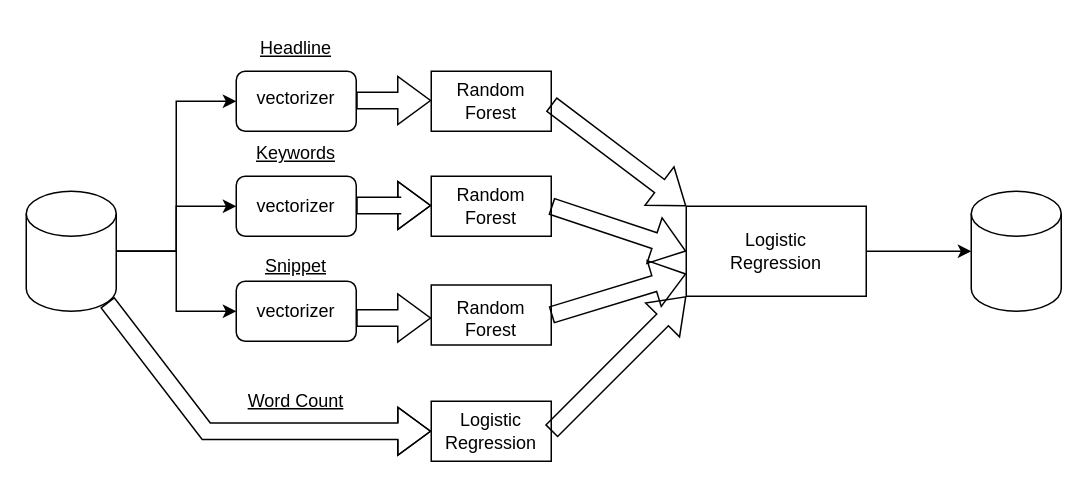
Some shapes in this 1088 by 488 pixel diagram are drawn without their labels. The centre of each missing label's shape, as x and y in pixels:
"Articles" belongs at point (70, 250).
"Top 20 Articles" belongs at point (1015, 250).
